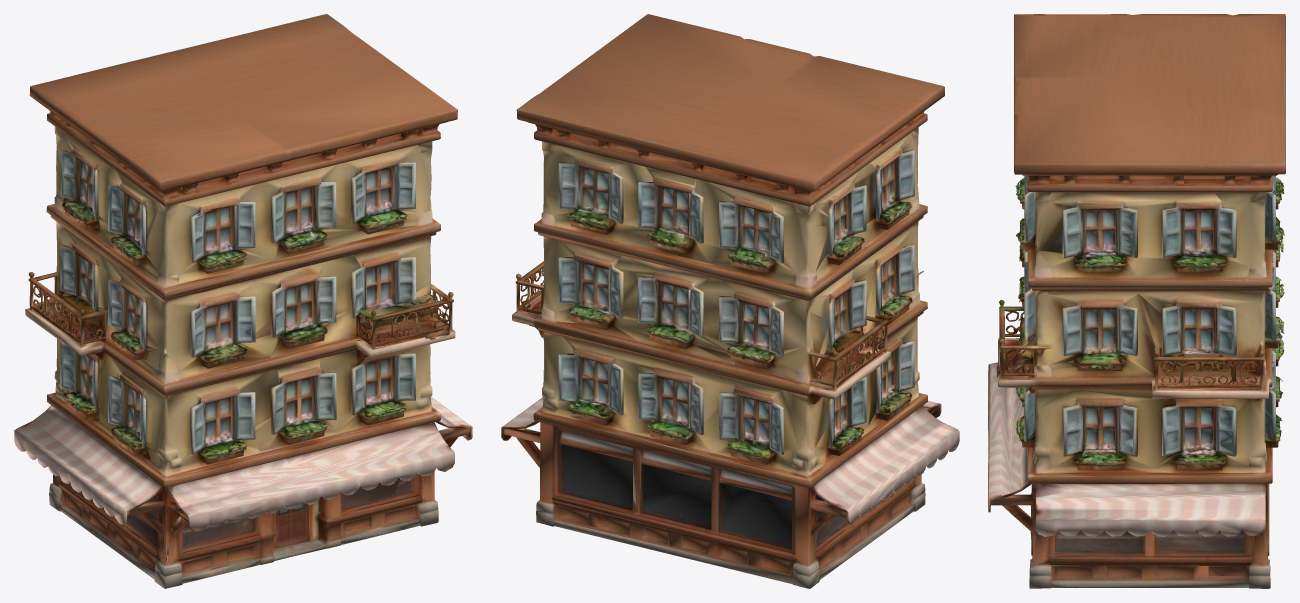
File: gedung-plaza-g02.glb
The picture shows the model from 3 angles, left to right: view 1: azimuth 30°, elevation 25°; view 2: azimuth 150°, elevation 25°; view 3: azimuth 270°, elevation 25°; orthographic projection. The views are drawn at different scales.
Parts seen in each view (by area): view 1: node_0; view 2: node_0; view 3: node_0.
Part boxes in pixels (<box>): node_0: <box>14,14,472,588</box>; node_0: <box>501,14,959,588</box>; node_0: <box>988,14,1285,588</box>.
Bounding box in the file's own units: 0.7536 × 0.8613 × 0.5392.
1 material, 1 textured.
